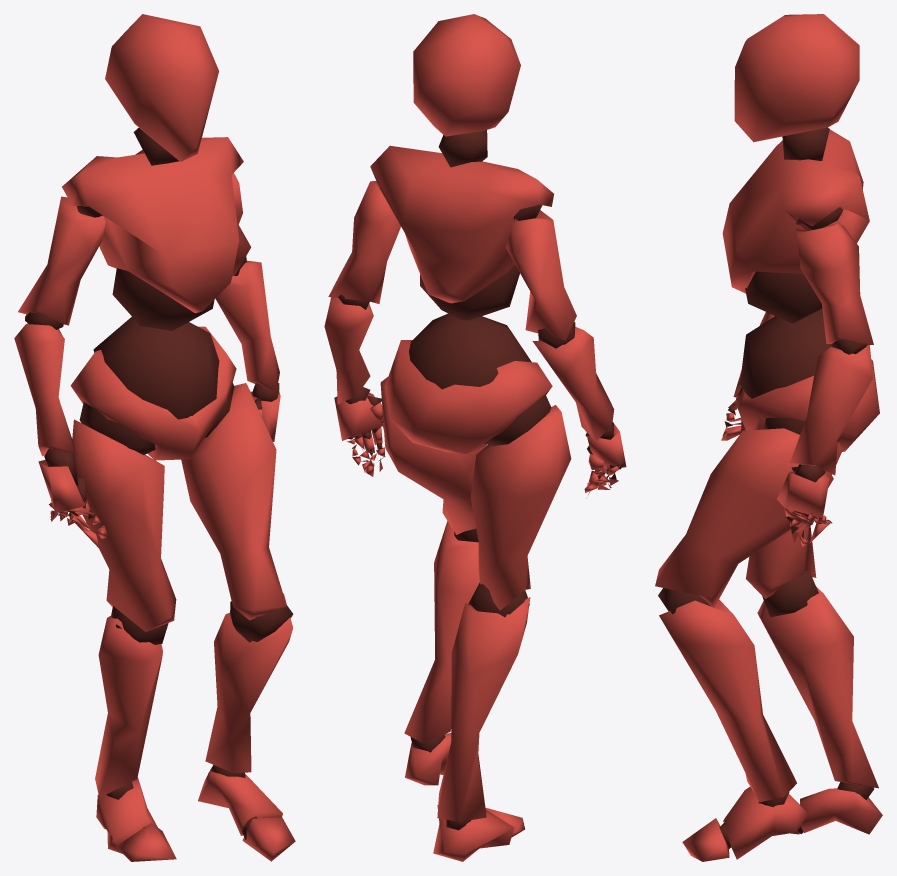
3 renders of one model, left to right at view 1: azimuth 30°, elevation 25°; view 2: azimuth 150°, elevation 25°; view 3: azimuth 270°, elevation 25°, orthographic.
Visible parts, largest first — view 1: Beta_Surface; view 2: Beta_Surface; view 3: Beta_Surface.
Boxes of the visible parts, x1,y1,x2,y2 form: Beta_Surface: (14, 14, 295, 861); Beta_Surface: (324, 14, 626, 861); Beta_Surface: (655, 14, 882, 861).
Size of the model in its own units: 4.78 by 14.44 by 3.62.
